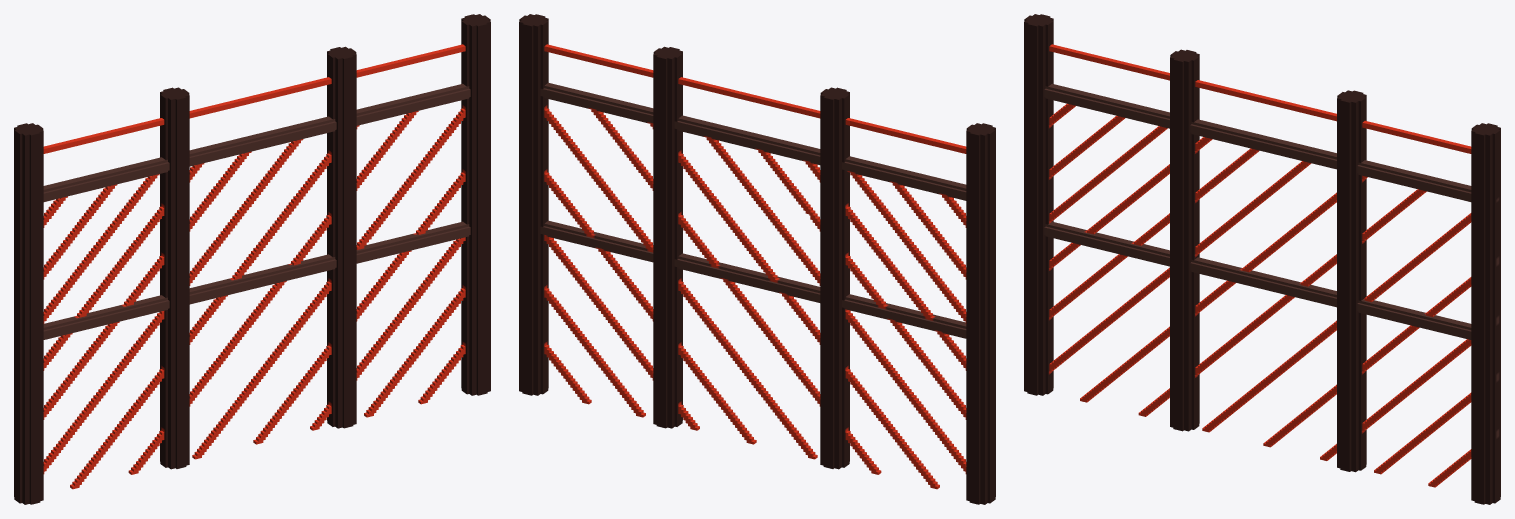
File: Enviroment-5-Fence.fbx
3 renders of one model, left to right at view 1: azimuth 30°, elevation 25°; view 2: azimuth 150°, elevation 25°; view 3: azimuth 330°, elevation 25°, orthographic.
Visible parts, largest first — view 1: Fence; view 2: Fence; view 3: Fence.
Boxes of the visible parts, x1,y1,x2,y2 form: Fence: (14,14,490,504); Fence: (519,14,995,504); Fence: (1024,14,1500,504).
Bounding box in the file's own units: 200 × 150 × 10.
